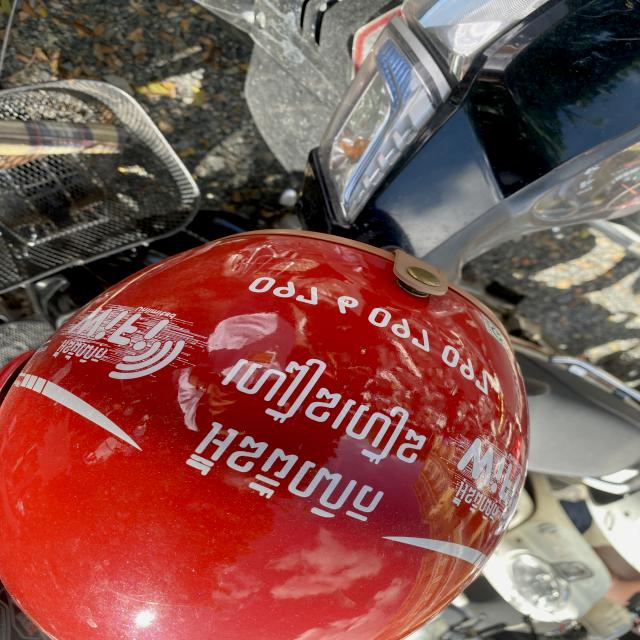477: (239, 258, 509, 398)
Yolov11_80vkh: (209, 325, 451, 480), (164, 407, 426, 537), (446, 478, 503, 527), (48, 334, 119, 371)
